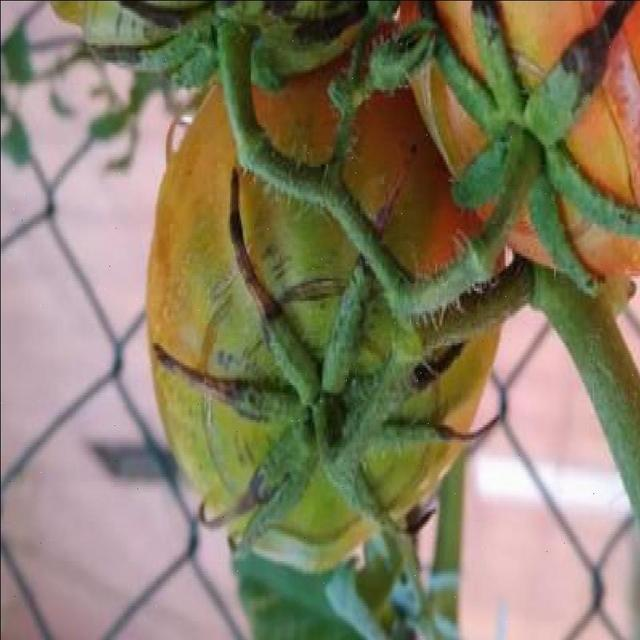Cracking Fruit: (42, 40, 406, 349)
